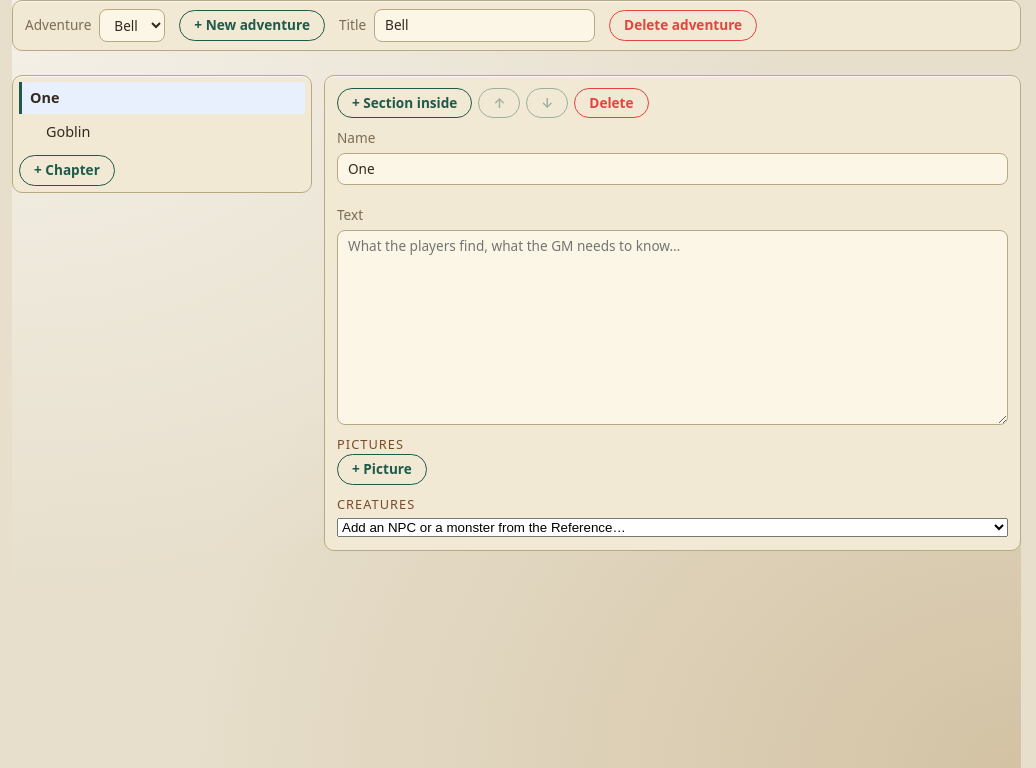
it: HomebrewAdventure › opens an adventure that is there, names the creatures it already has, and deletes it after asking
Step 1. Click the button with test id "adv-row" showing "Goblin" → {"x": 68, "y": 131}, box [19, 116, 305, 147]
Wait 1000 ms
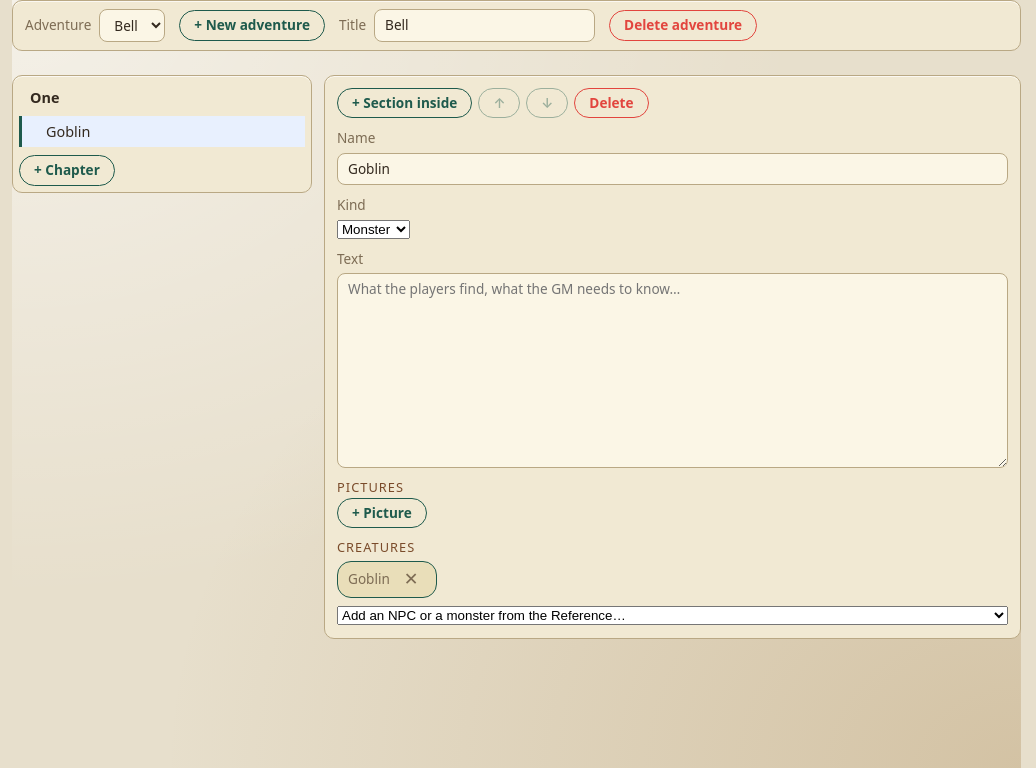
Expected: the element with test id "node-creature" shows "Goblin", [348, 569, 390, 588]
Step 2. Click the button "Delete adventure" → {"x": 683, "y": 26}, box [609, 10, 757, 41]
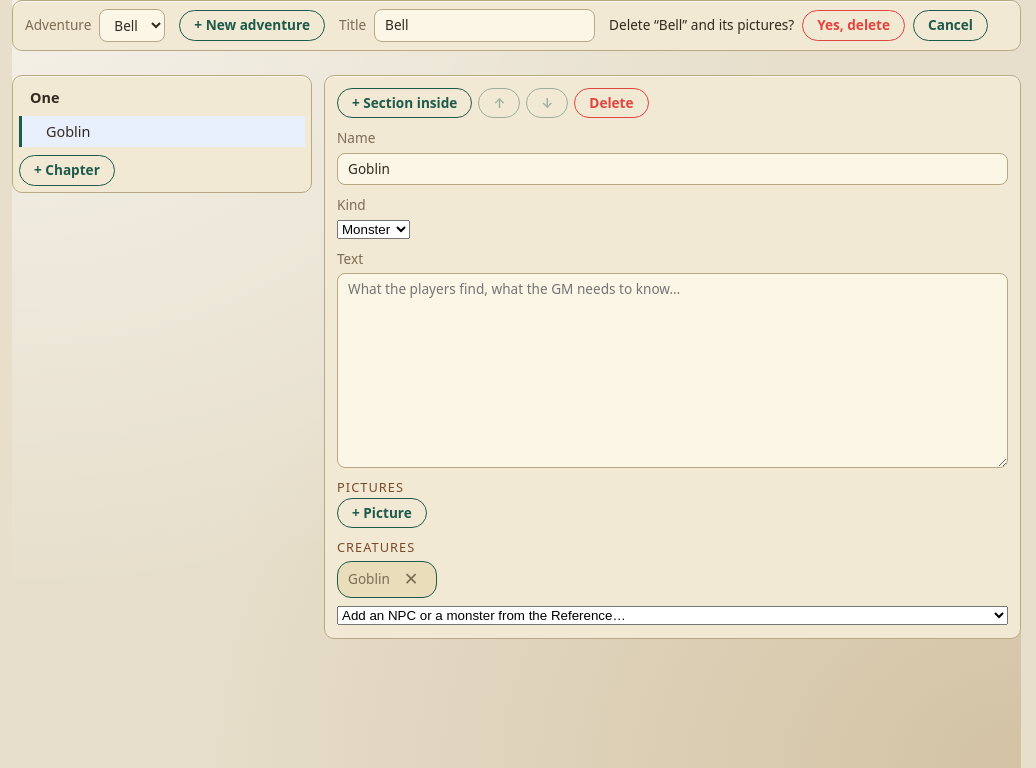
Expected: the element with test id "adv-delete-confirm" shows "Bell", [609, 15, 794, 34]
Step 3. Click the button "Yes, delete" → {"x": 854, "y": 26}, box [802, 10, 905, 41]
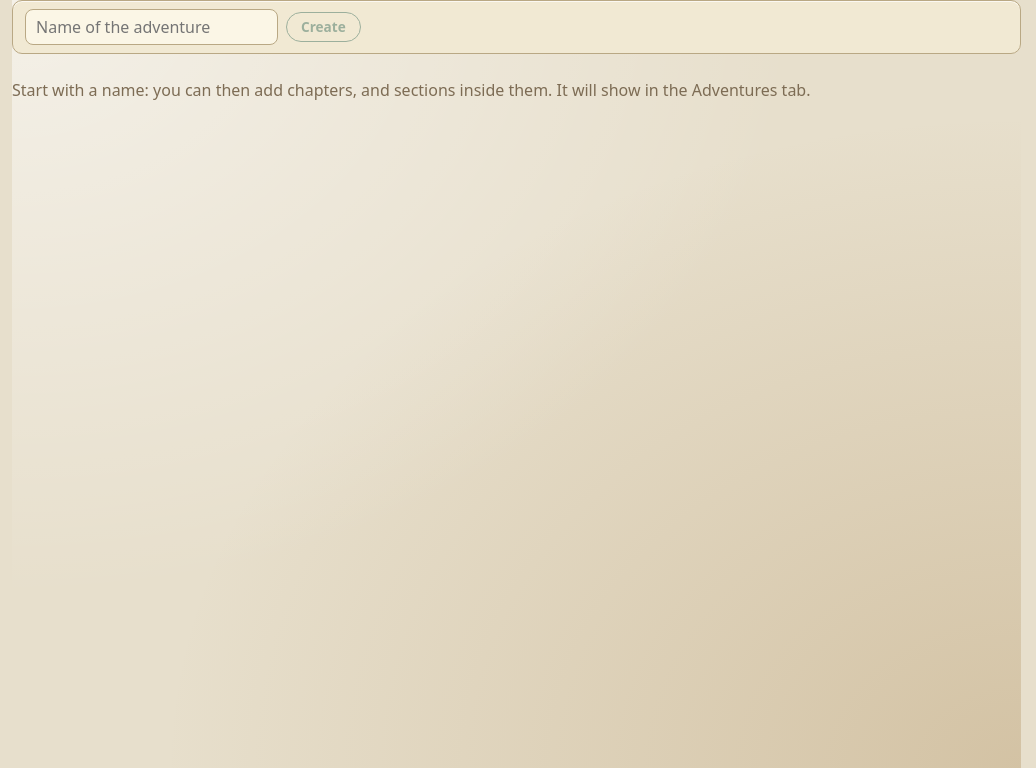
Expected: the text with test id "adv-empty" is shown, [12, 79, 810, 101]
